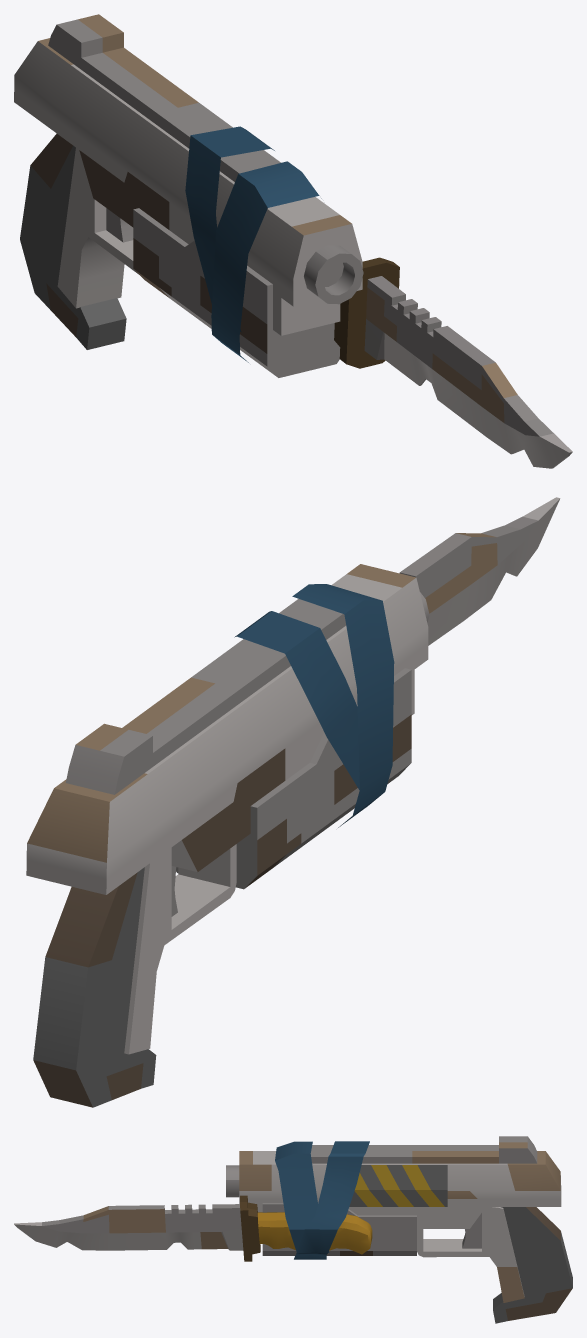
File: Pistol.glb
The picture shows the model from 3 angles, top to bottom: view 1: azimuth 30°, elevation 25°; view 2: azimuth 150°, elevation 25°; view 3: azimuth 270°, elevation 25°; orthographic projection. The views are drawn at different scales.
Visible parts, largest first — view 1: Pistol; view 2: Pistol; view 3: Pistol.
Part boxes in pixels (x1,y1,x2,y2): Pistol: [14, 14, 572, 468]; Pistol: [26, 497, 560, 1107]; Pistol: [14, 1136, 572, 1323].
Size of the model in its own units: 0.1412 by 0.3397 by 0.9764.
Materials: 1 (1 with a texture image).
